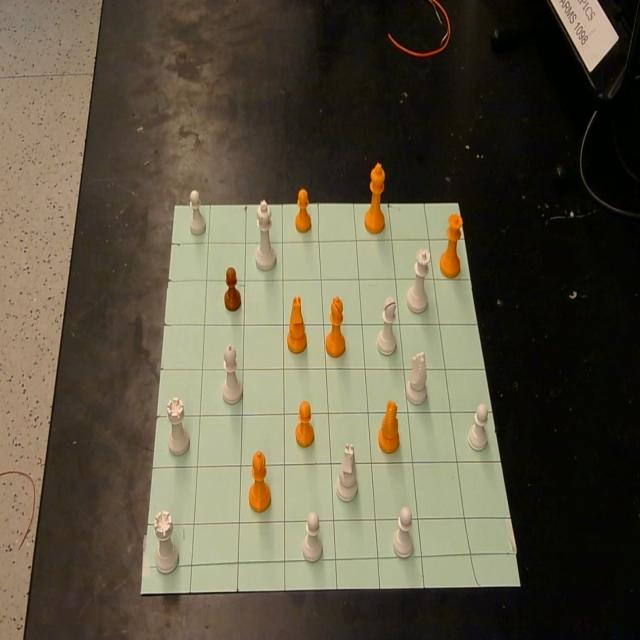orange_bishop: (248, 450, 271, 512), (326, 296, 346, 357)
orange_king: (364, 161, 385, 233)
orange_knight: (378, 399, 400, 454), (287, 293, 307, 353)
orange_pawn: (296, 400, 314, 447), (295, 187, 312, 232), (224, 266, 241, 310)
orange_queen: (440, 214, 463, 278)
white_bishop: (222, 345, 243, 404), (378, 297, 398, 356)
white_king: (255, 200, 276, 269)
white_knight: (336, 443, 358, 501), (406, 350, 428, 404)
white_pawn: (393, 506, 413, 557), (468, 403, 489, 450), (302, 512, 322, 561), (189, 188, 205, 234)
white_queen: (153, 510, 178, 573), (406, 250, 430, 312)
white_rook: (167, 397, 190, 455)
